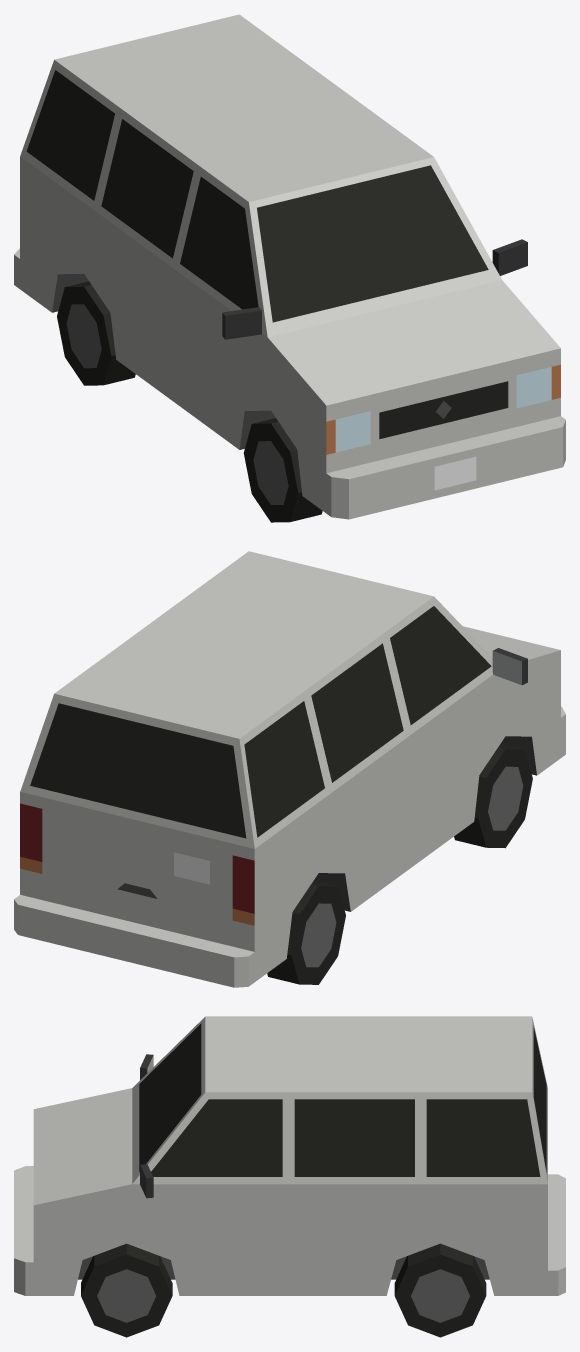
The model's file is Veh_Minivan_White.obj.
3 renders of one model, top to bottom at view 1: azimuth 30°, elevation 25°; view 2: azimuth 150°, elevation 25°; view 3: azimuth 270°, elevation 25°, orthographic. The views are drawn at different scales.
Size of the model in its own units: 1.31 by 1.16 by 2.46.
